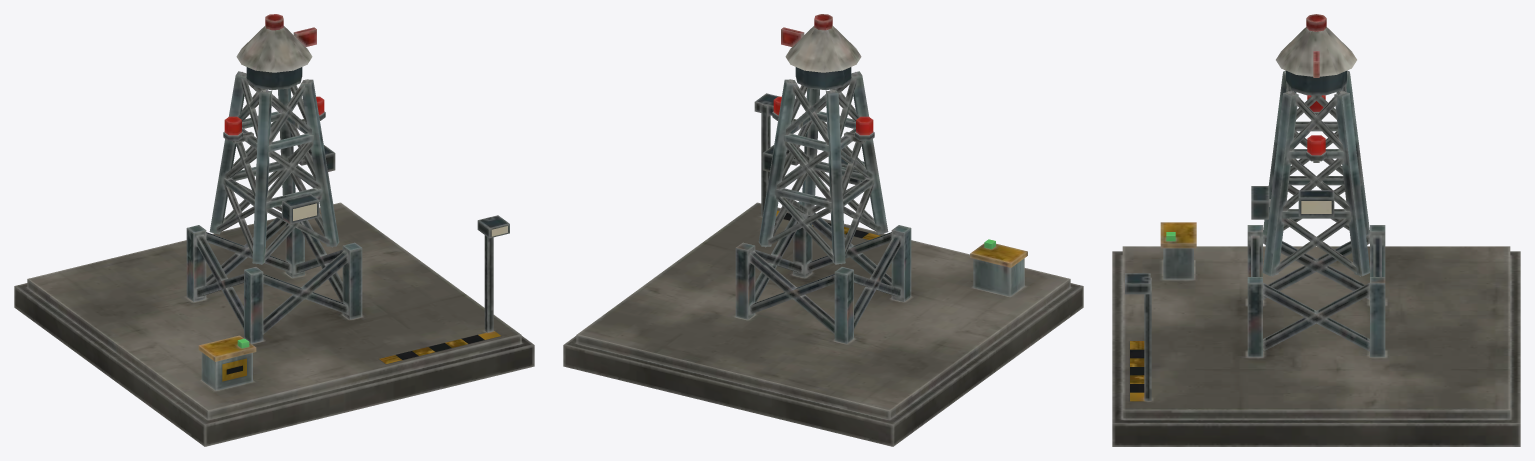
File: sensor_post.glb
3 views of the same model, side by side, from view 1: azimuth 30°, elevation 25°; view 2: azimuth 150°, elevation 25°; view 3: azimuth 270°, elevation 25° (orthographic). The views are drawn at different scales.
Visible parts, largest first — view 1: te_sensor_post, move_sensor; view 2: te_sensor_post, move_sensor; view 3: te_sensor_post, move_sensor.
Part boxes in pixels (<box>): te_sensor_post: <box>14,67,534,446</box>; move_sensor: <box>236,14,316,72</box>; te_sensor_post: <box>563,67,1083,446</box>; move_sensor: <box>781,14,861,72</box>; te_sensor_post: <box>1112,70,1520,446</box>; move_sensor: <box>1276,14,1356,77</box>.
Bounding box in the file's own units: 0.8 × 0.74 × 0.8.
Materials: 1 (1 with a texture image).
